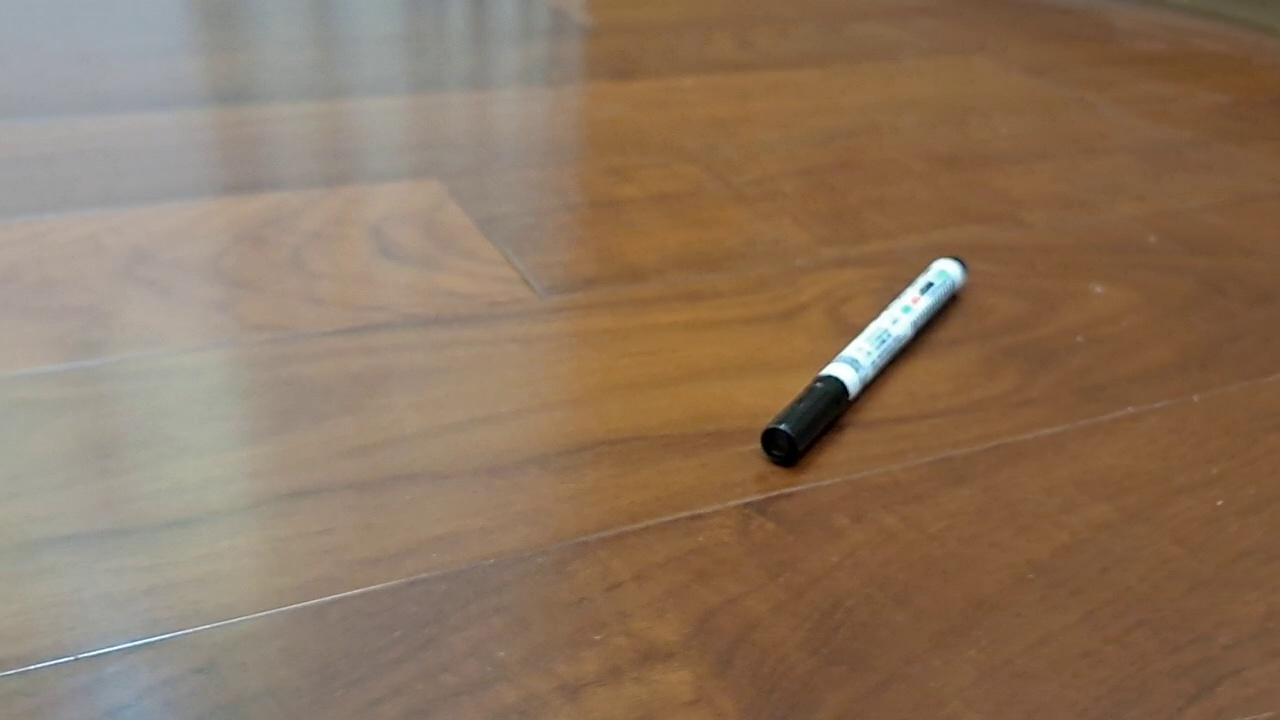pen: (760, 254, 969, 468)
